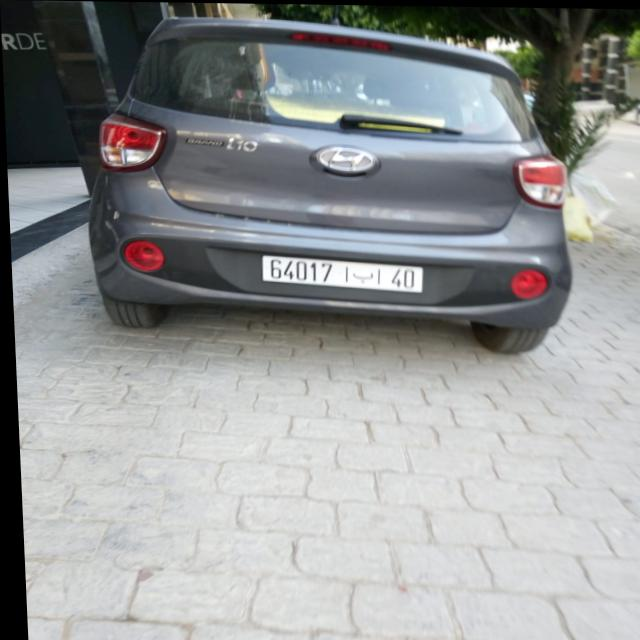License-Plate: (260, 254, 421, 291)
